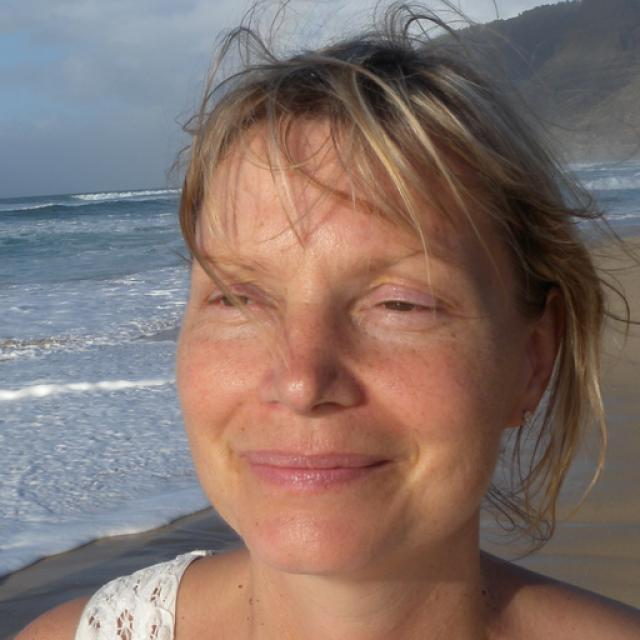0_rostro_limpio: (179, 44, 563, 573)
